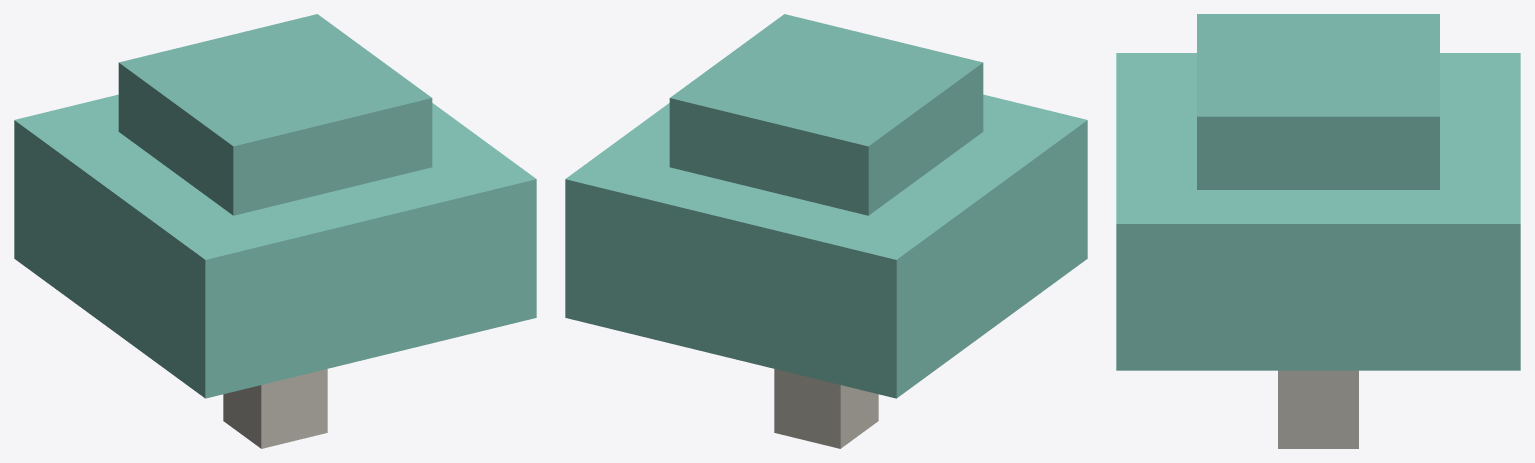
Rendered from seta_luminosa_02.glb.
3 views of the same model, side by side, from view 1: azimuth 30°, elevation 25°; view 2: azimuth 150°, elevation 25°; view 3: azimuth 270°, elevation 25° (orthographic). The views are drawn at different scales.
Parts seen in each view (by area): view 1: seta_luminosa_02; view 2: seta_luminosa_02; view 3: seta_luminosa_02.
Boxes of the visible parts, bbox=[...] form: seta_luminosa_02: bbox=[14, 14, 536, 448]; seta_luminosa_02: bbox=[565, 14, 1087, 448]; seta_luminosa_02: bbox=[1116, 14, 1520, 448].
Size of the model in its own units: 0.5 by 0.5 by 0.5.
